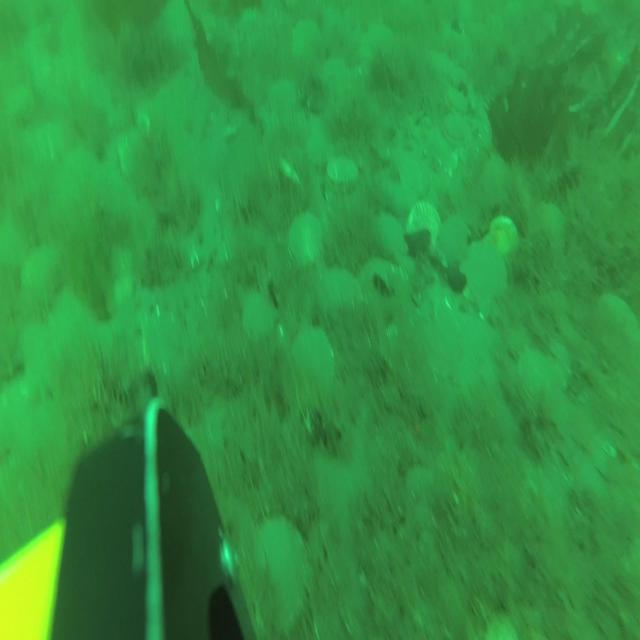scallop: (248, 516, 312, 630), (598, 293, 640, 371), (291, 322, 336, 391), (462, 248, 509, 312), (360, 258, 404, 316), (318, 272, 359, 334), (290, 21, 326, 79), (21, 326, 56, 384), (436, 216, 472, 272), (406, 205, 441, 262), (519, 353, 557, 405), (288, 212, 324, 265), (536, 204, 568, 263), (22, 246, 54, 304), (240, 292, 274, 340), (374, 212, 405, 264), (327, 150, 362, 194), (442, 114, 470, 152), (447, 85, 473, 118)
